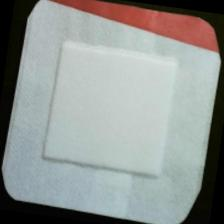Dressing: (1, 1, 224, 224)
Red_T: (34, 1, 224, 58)
